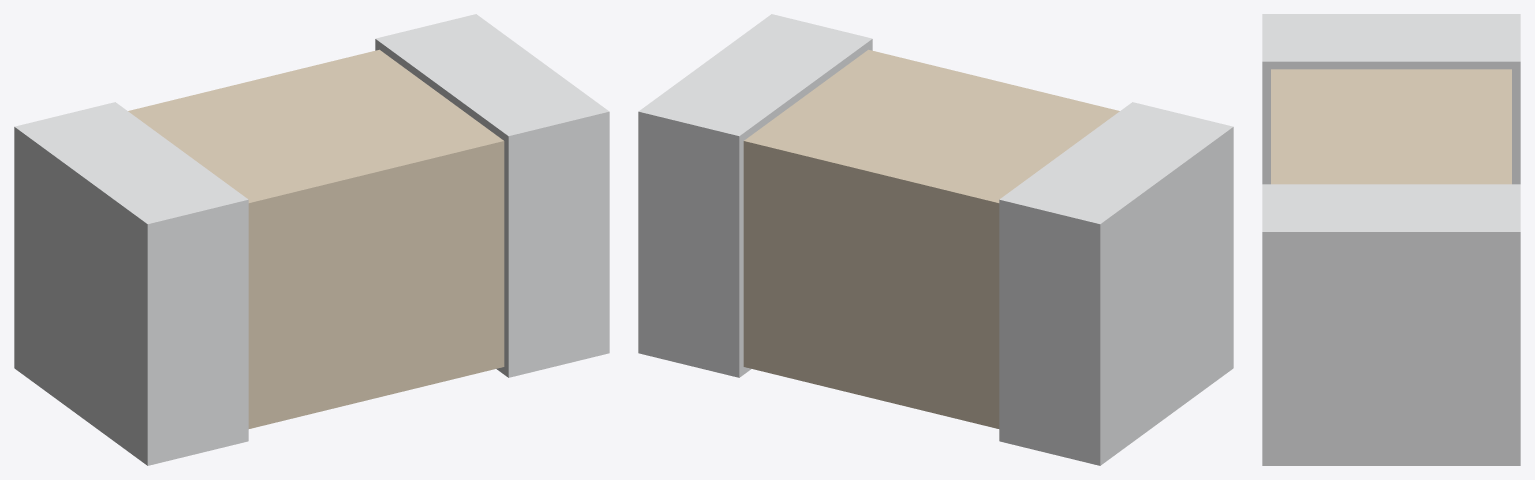
File: mlcc_0603_true_scale.glb
3 renders of one model, left to right at view 1: azimuth 30°, elevation 25°; view 2: azimuth 150°, elevation 25°; view 3: azimuth 270°, elevation 25°, orthographic. The views are drawn at different scales.
Parts seen in each view (by area): view 1: dielectric, tin_L, tin_R; view 2: dielectric, tin_L, tin_R; view 3: tin_R, dielectric, tin_L.
Boxes of the visible parts, x1,y1,x2,y2 form: dielectric: (128, 49, 504, 428); tin_L: (14, 102, 248, 465); tin_R: (375, 14, 609, 377); dielectric: (743, 49, 1119, 428); tin_L: (999, 102, 1233, 465); tin_R: (638, 14, 872, 377); tin_R: (1262, 184, 1520, 465); dielectric: (1271, 69, 1511, 184); tin_L: (1262, 14, 1520, 184).
Size of the model in its own units: 1.6 by 0.8 by 0.8.
